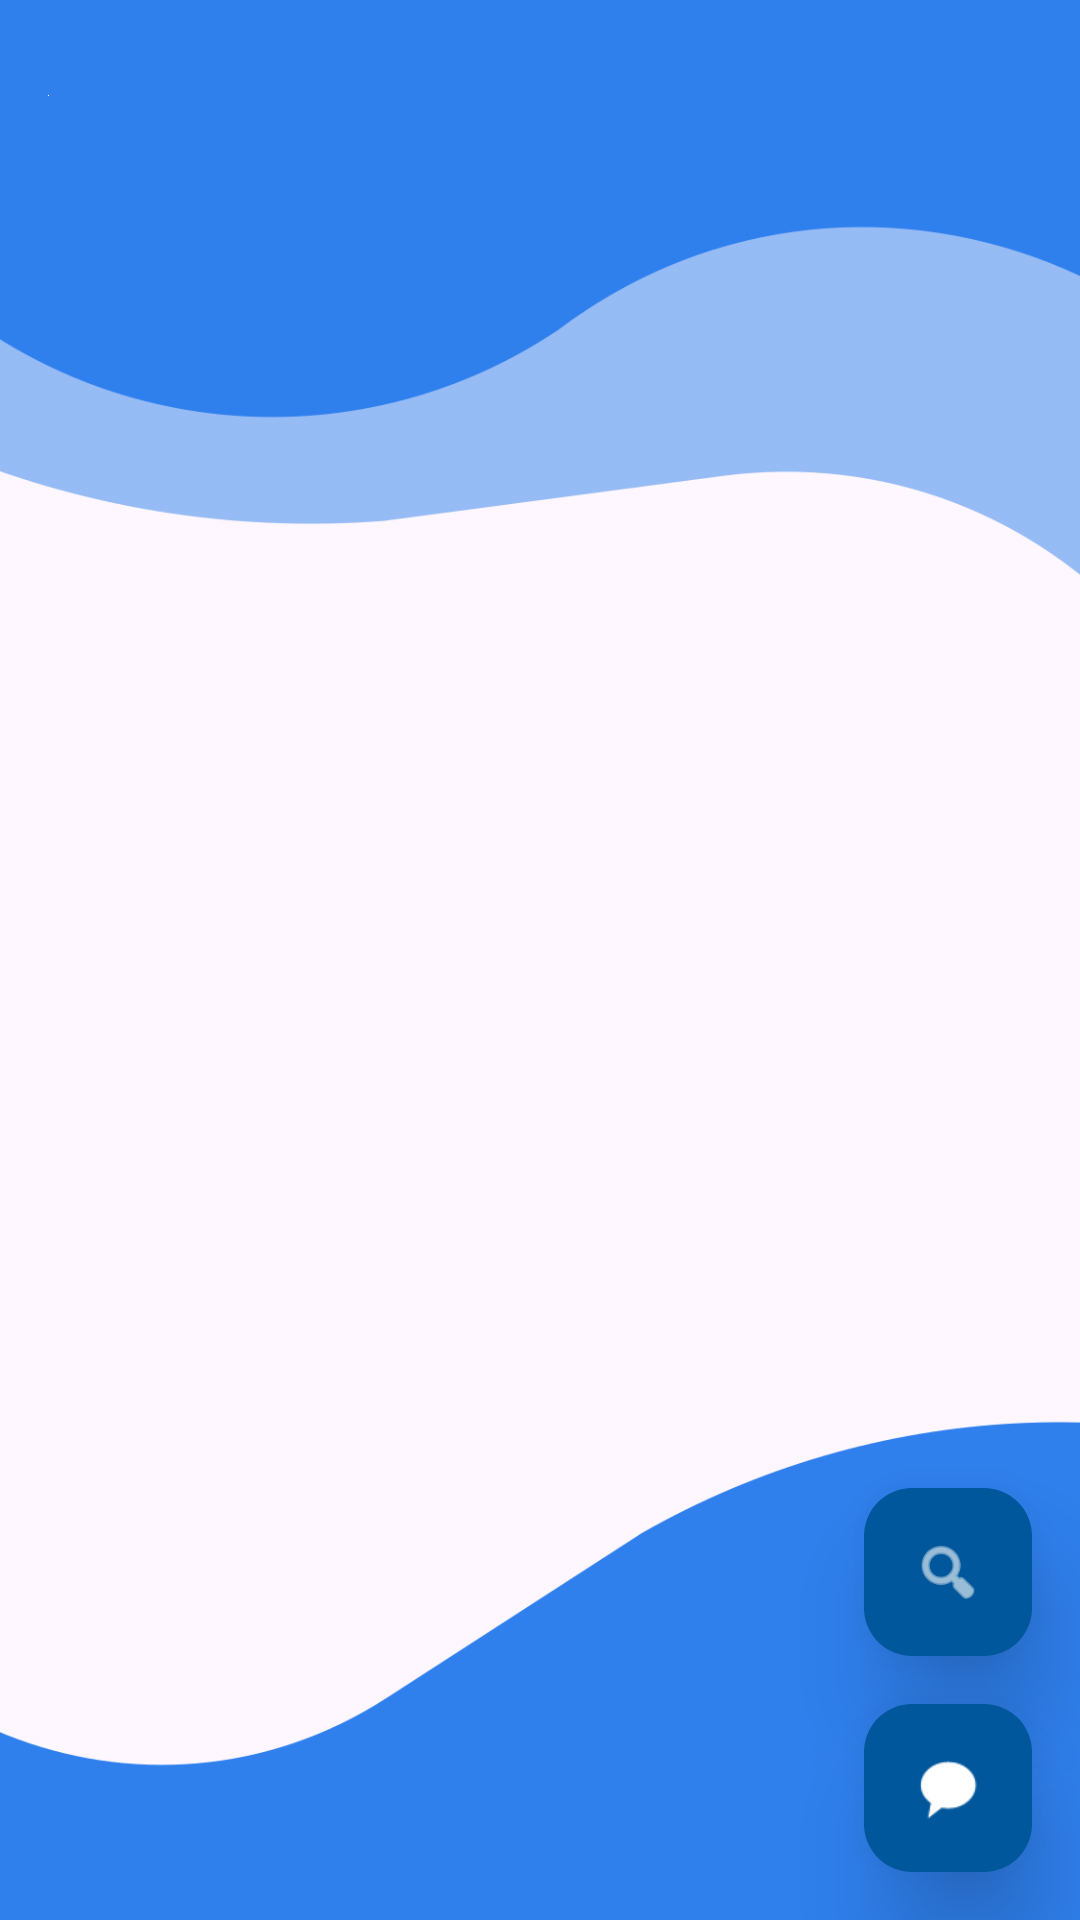

Screen size 1080*1920. Icon name, then its box in pixels as [x1,y1,x2,y2]:
Buscar…: [864,1488,1032,1656]
Crear reseña: [864,1704,1032,1872]
